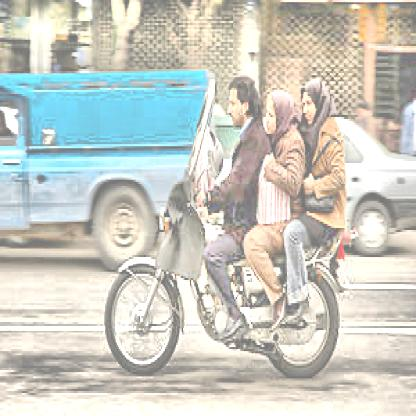not_wear: (224, 75, 256, 135), (299, 73, 329, 131), (264, 88, 288, 141)
